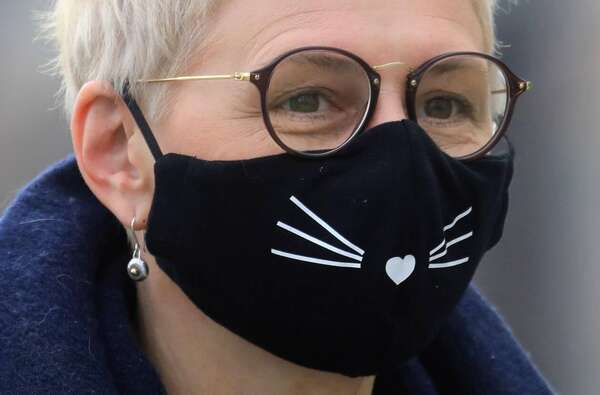with_mask: (119, 11, 529, 360)
